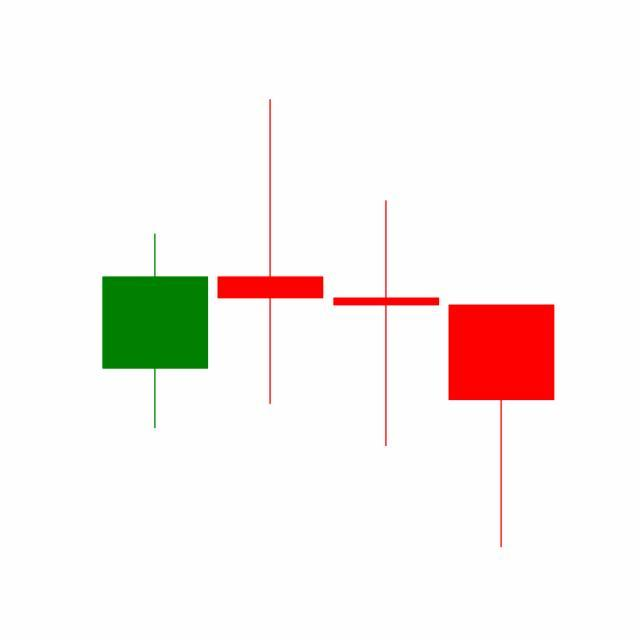Hammer: (444, 302, 560, 551)
